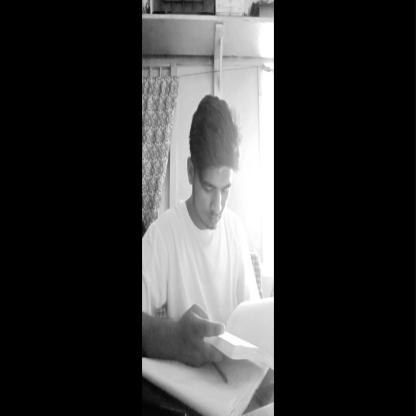Distracted: (182, 96, 244, 242)
